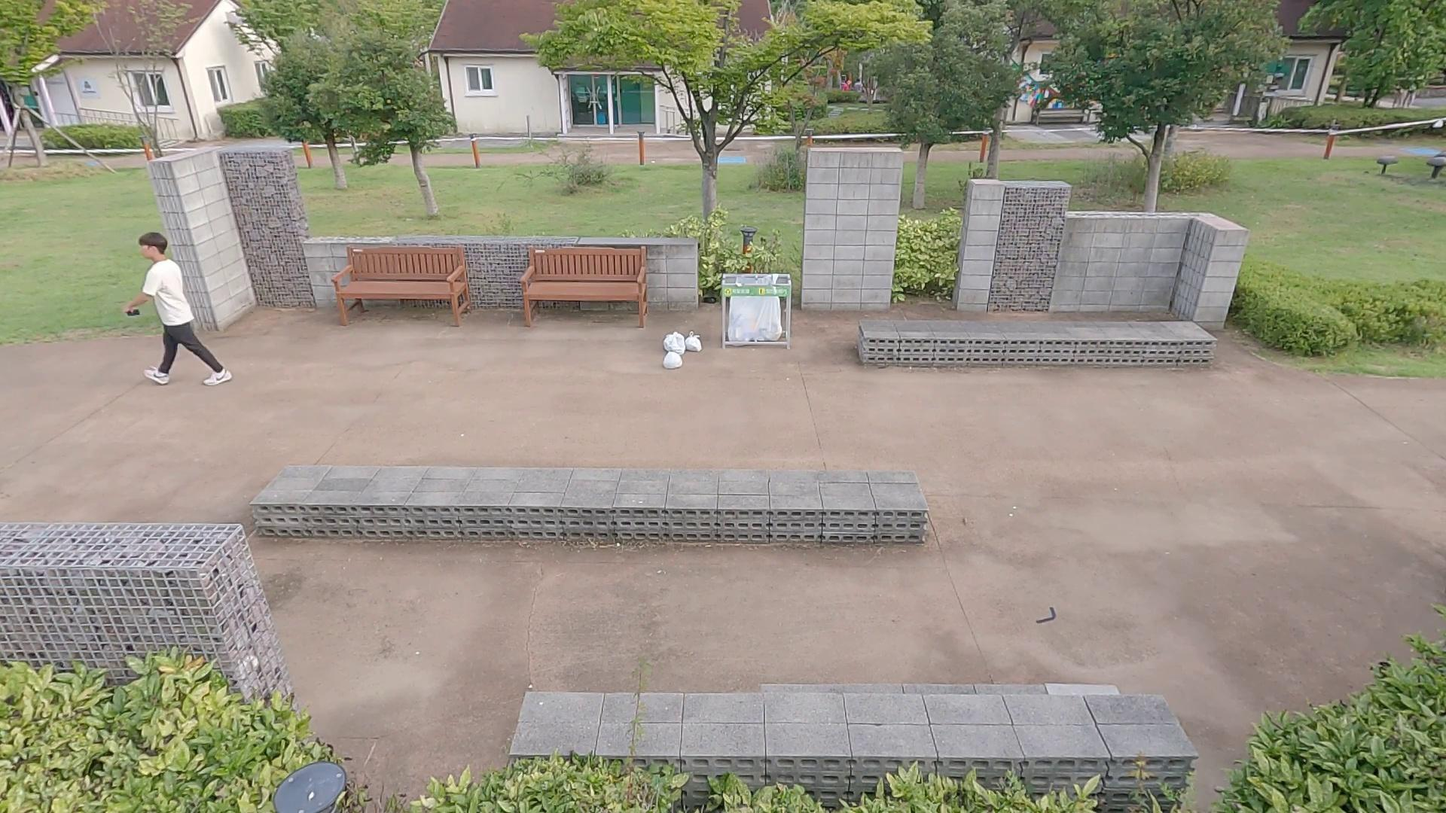person: (119, 230, 233, 387)
trash: (662, 330, 687, 356), (660, 348, 685, 369), (685, 327, 704, 353)
